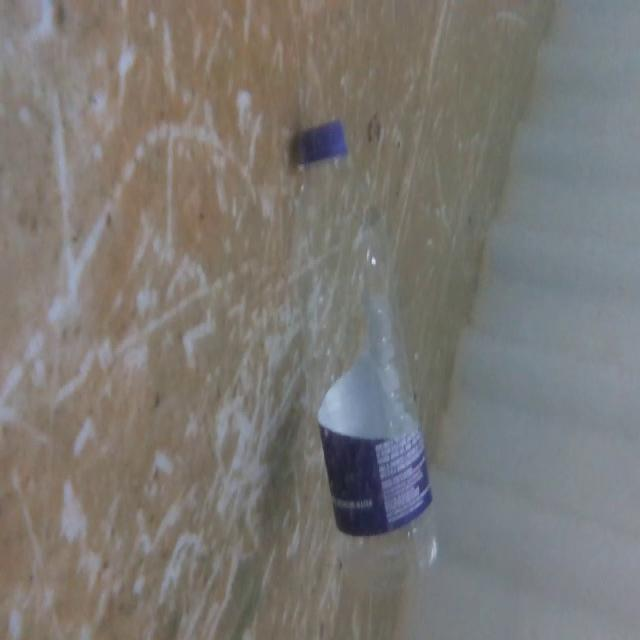plastic bottle: (280, 114, 454, 596)
